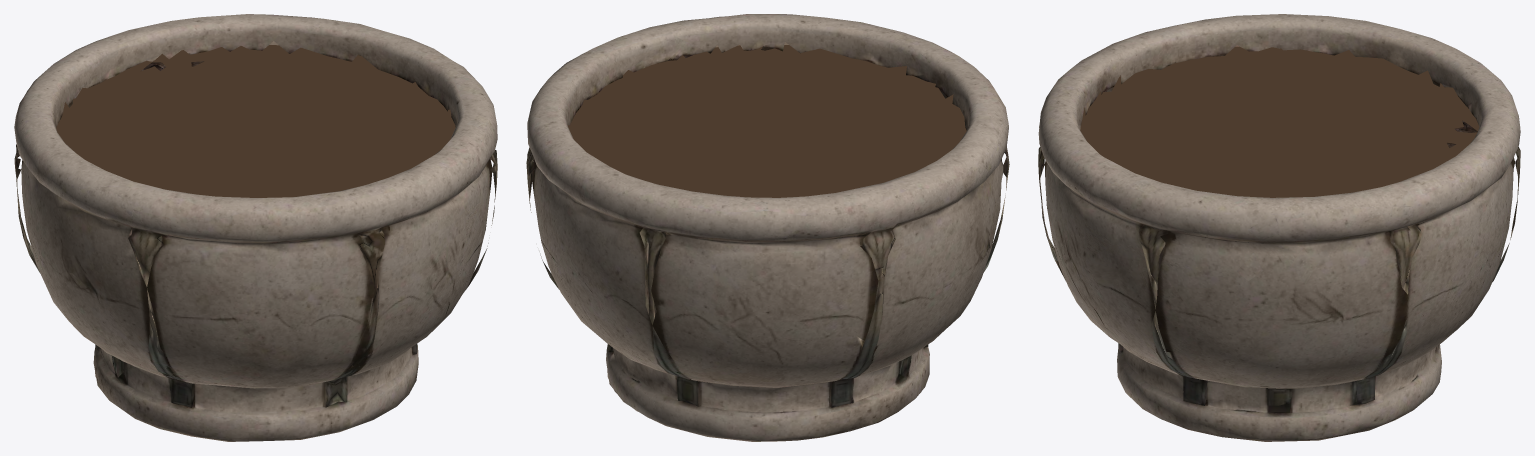
File: planter-v1.glb
3 views of the same model, side by side, from view 1: azimuth 30°, elevation 25°; view 2: azimuth 150°, elevation 25°; view 3: azimuth 270°, elevation 25° (orthographic).
Visible parts, largest first — view 1: world, Repaired level soil; view 2: world, Repaired level soil; view 3: world, Repaired level soil.
Part boxes in pixels (bbox=[...]): world: bbox=[14, 14, 497, 441]; Repaired level soil: bbox=[56, 45, 455, 197]; world: bbox=[526, 14, 1009, 441]; Repaired level soil: bbox=[567, 45, 966, 197]; world: bbox=[1038, 14, 1520, 441]; Repaired level soil: bbox=[1080, 46, 1479, 197].
Bounding box in the file's own units: 1.08 × 0.665 × 1.08.
Materials: 2 (1 with a texture image).
